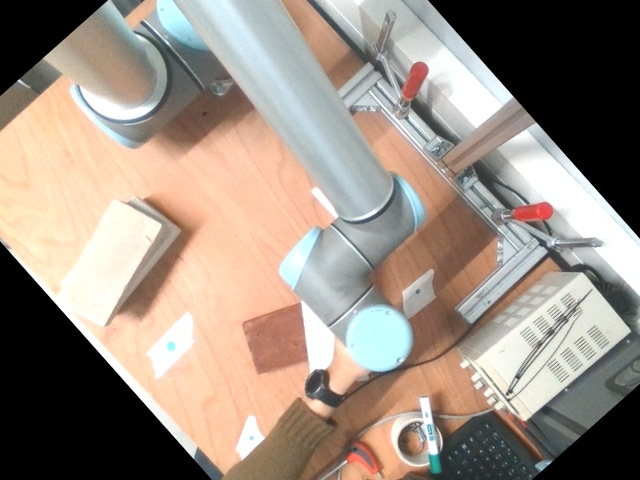brick: (58, 201, 157, 323)
